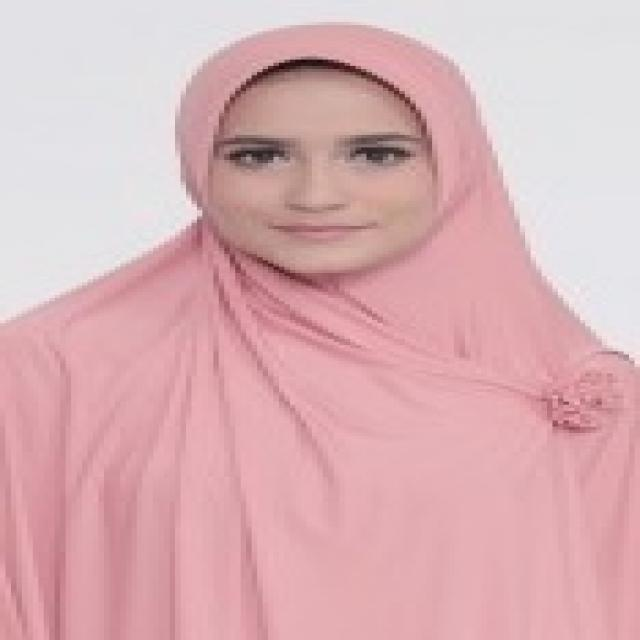head: (168, 26, 481, 286)
